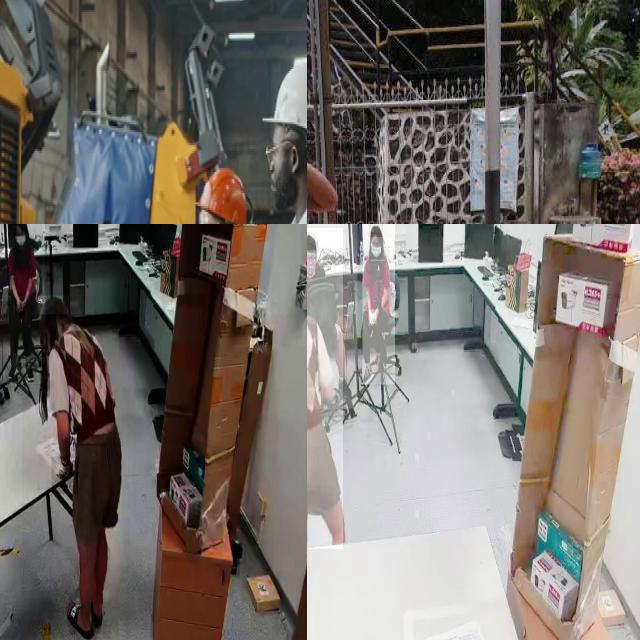face_mask: (15, 226, 30, 253), (370, 233, 382, 259)
face_nomask: (307, 252, 316, 272)
glasses: (262, 138, 306, 158), (193, 209, 232, 224)
hand_glove: (52, 456, 78, 494)
hand_noglove: (15, 298, 23, 316), (369, 310, 377, 325), (18, 298, 24, 316), (368, 310, 374, 326)
head_helmet: (260, 58, 307, 141), (196, 165, 251, 224)
head_nohelmet: (38, 296, 69, 314), (369, 224, 383, 238), (307, 233, 316, 251)
person: (22, 296, 130, 640), (307, 228, 343, 550), (307, 224, 357, 409), (0, 224, 45, 383), (362, 224, 395, 385)
